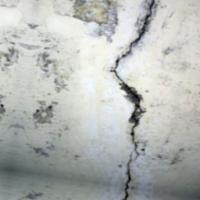crack: (103, 0, 157, 199)
